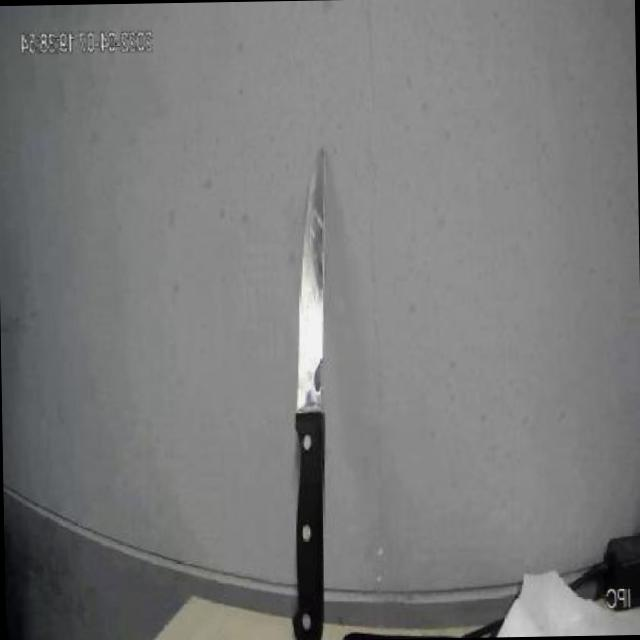knife: (251, 134, 344, 640)
